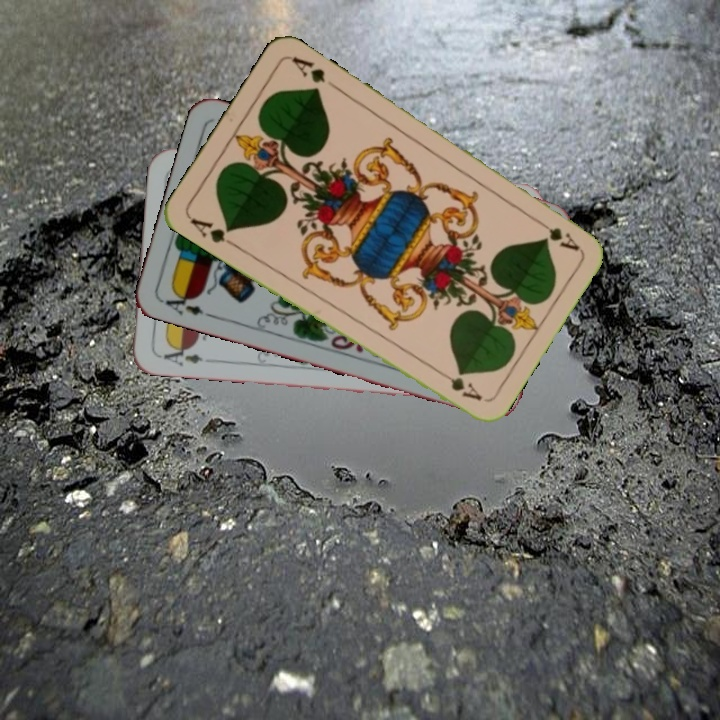EA: (158, 287, 216, 321), (160, 341, 206, 369)
GA: (529, 213, 582, 254), (186, 213, 239, 250)
